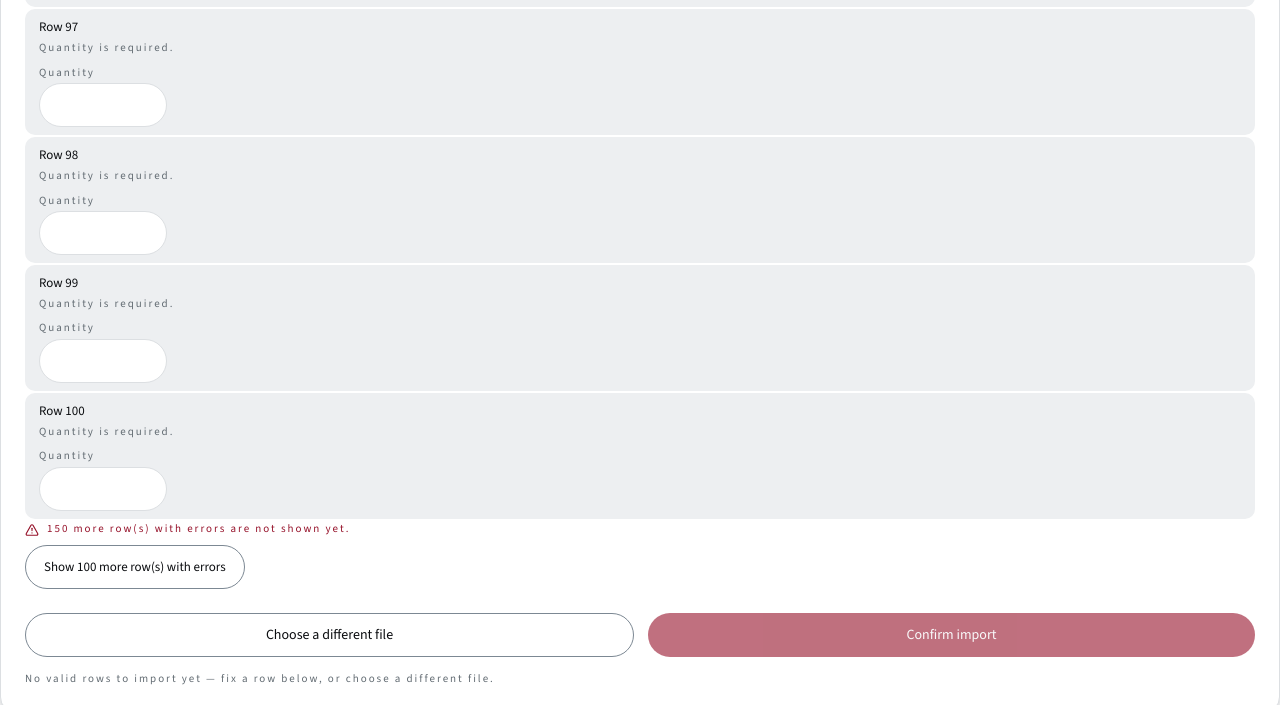
Scenario: PreviewStep — incremental error-row disclosure (Sol round-2 audit finding 4) › shows the first page, then reveals more on each click until every row is shown
(page scrolled)
Click the button "Show 100 more row(s) with errors".
click(135, 567)  # box [25, 545, 245, 589]
(page scrolled)
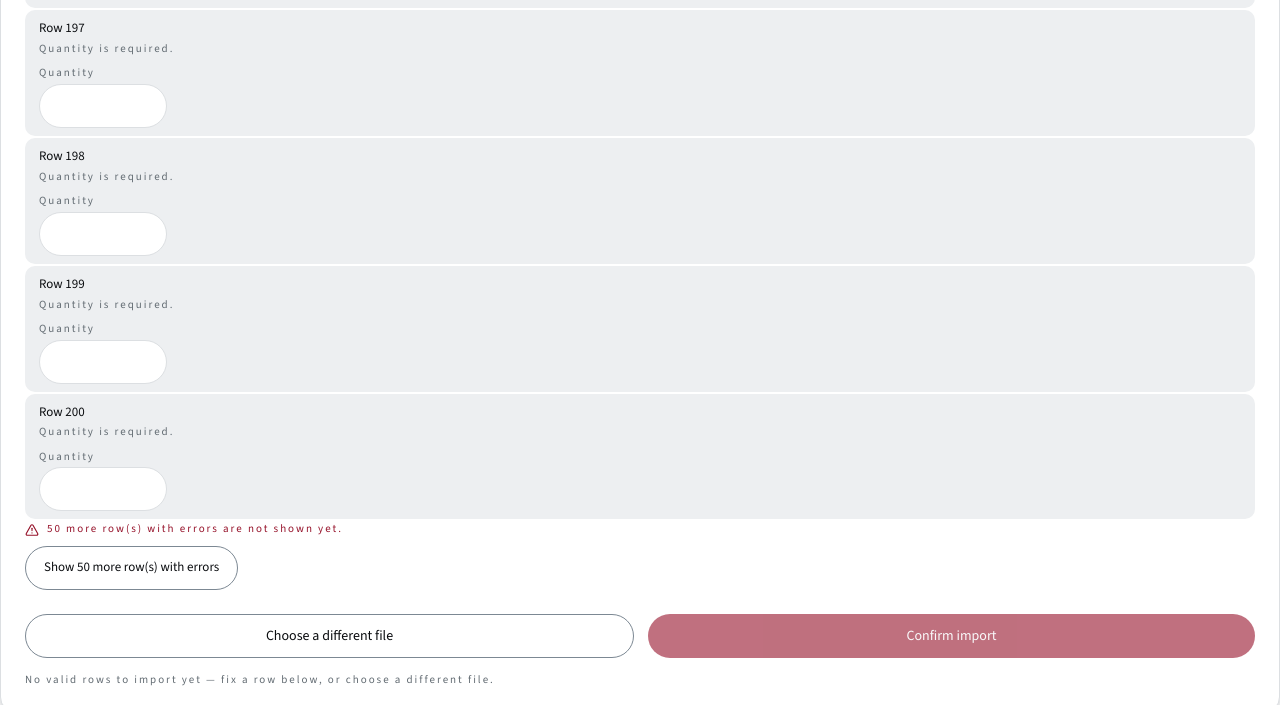
Expected: the text "50 more row(s) with errors are not shown yet." is shown, [25, 521, 343, 537]
Click the button "Show 50 more row(s) with errors".
click(132, 568)  # box [25, 546, 238, 590]
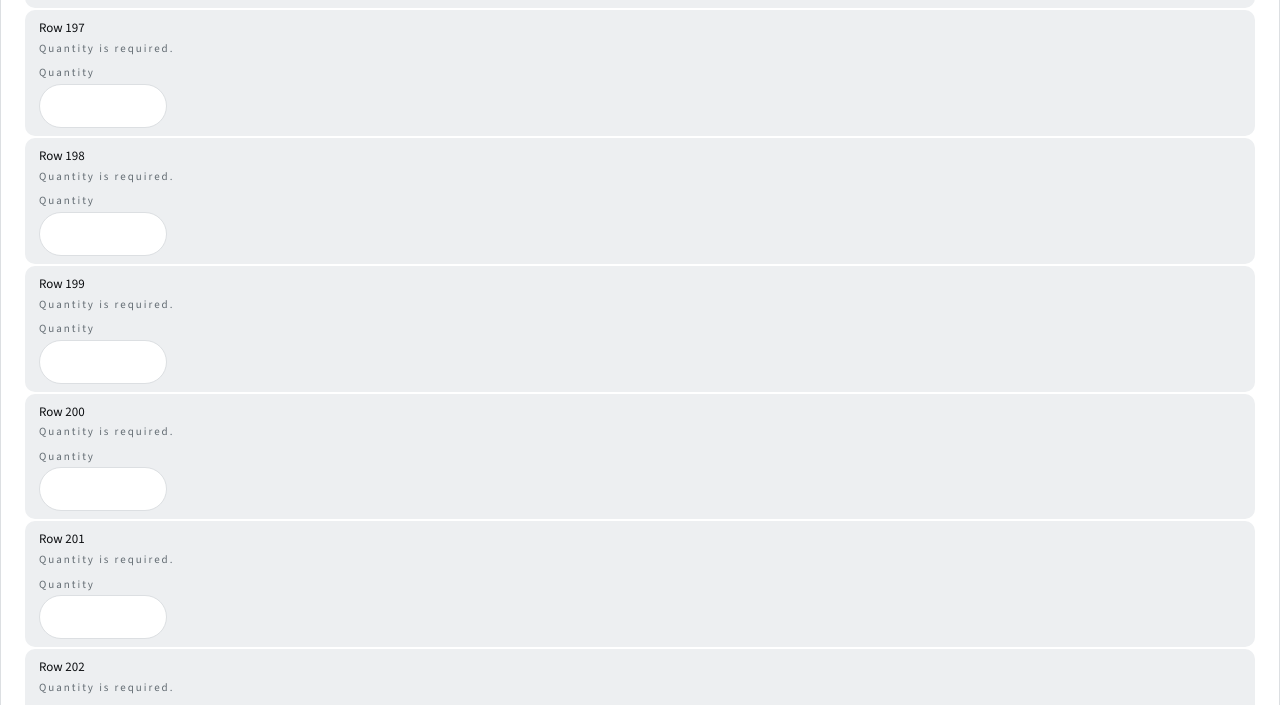
Now the text "more row(s) with errors are not shown yet." is gone
